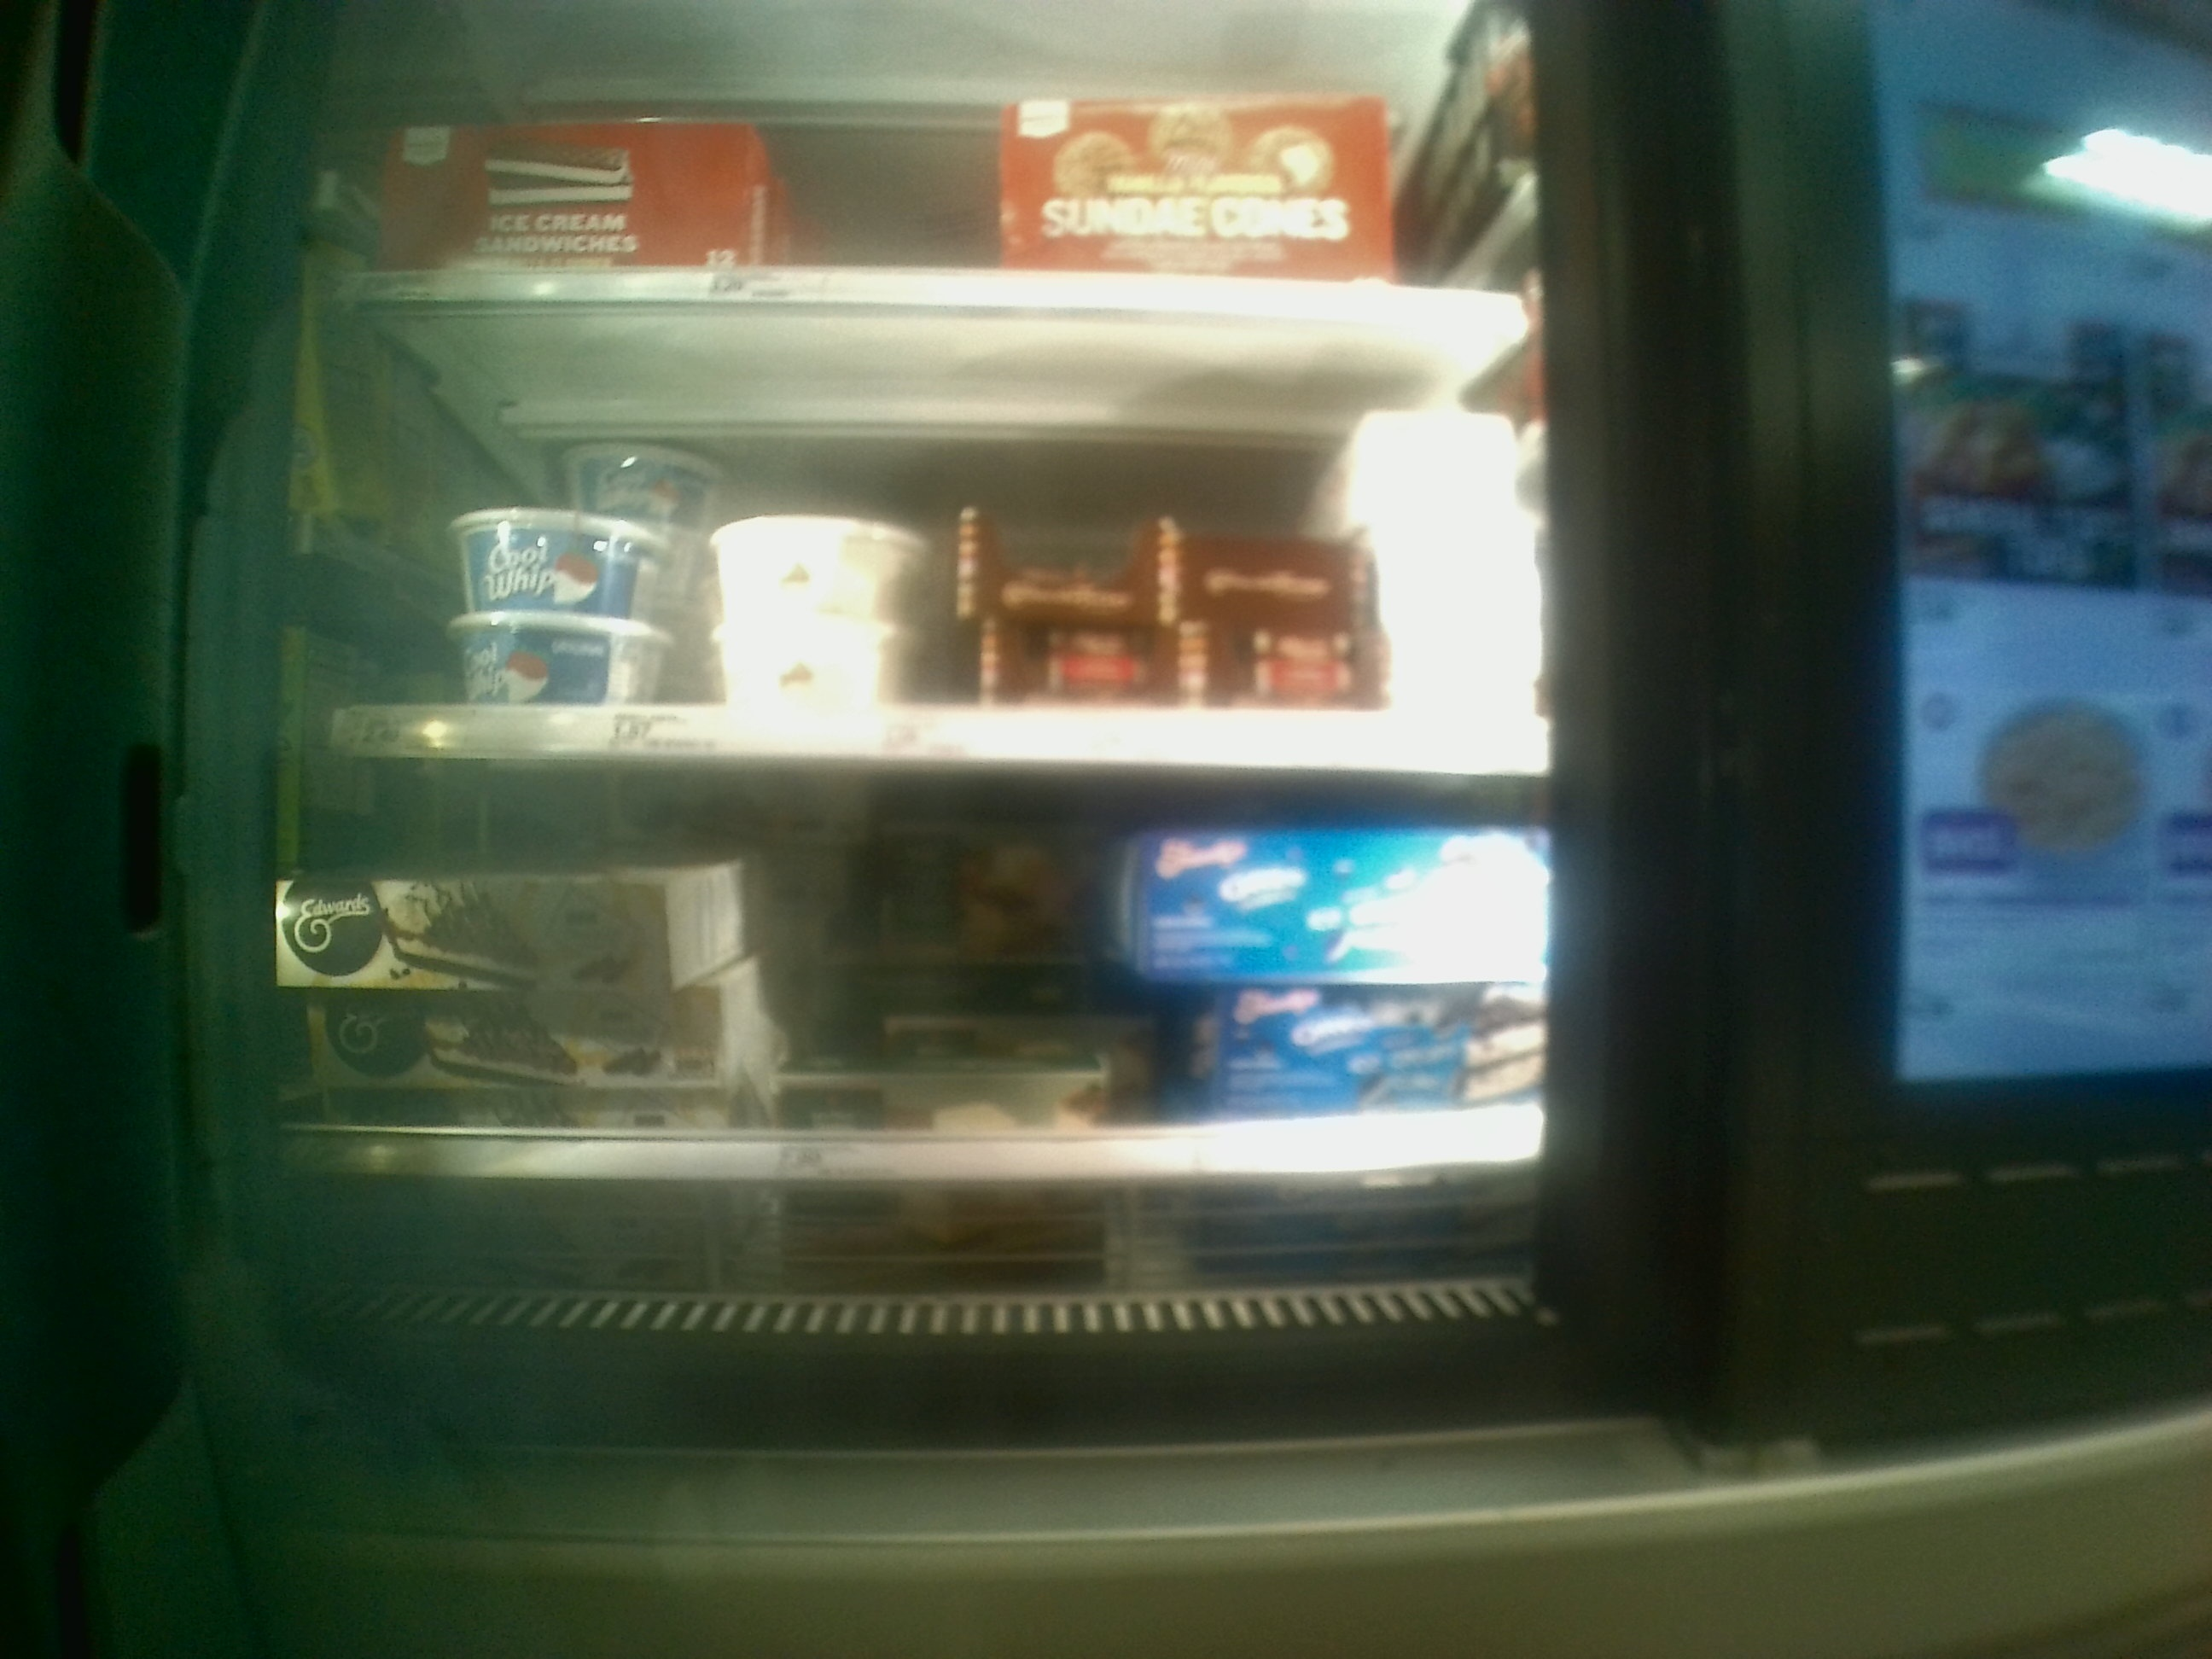frozen-food-shelf: (246, 777, 1550, 1183)
